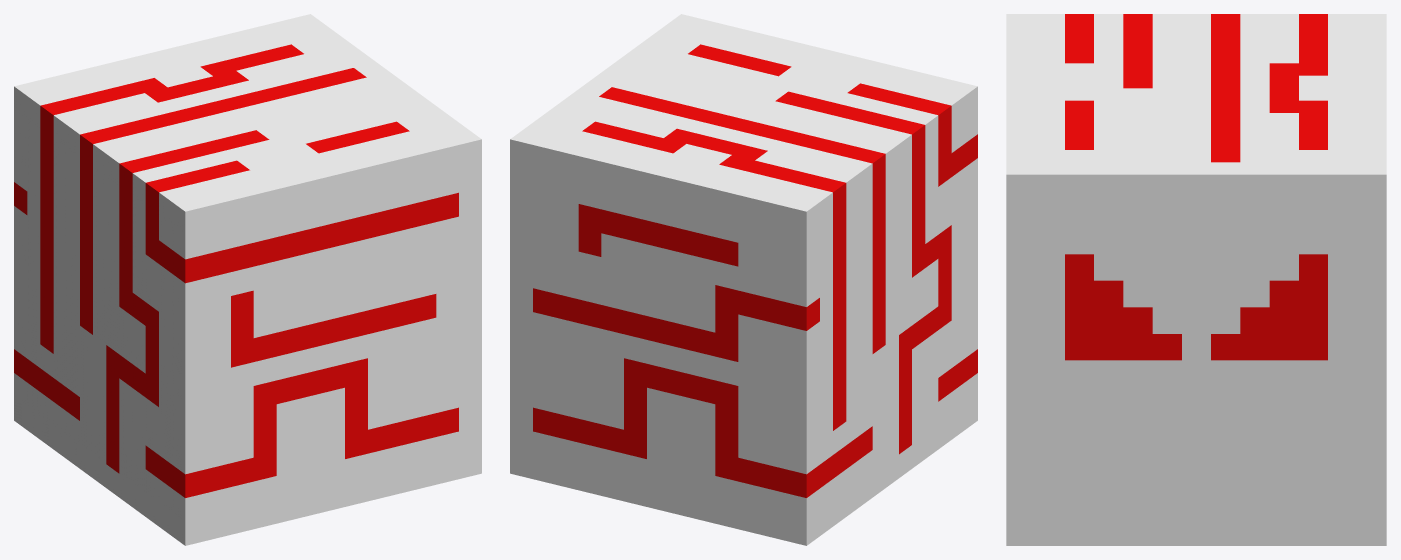
File: rbshockree.obj
3 renders of one model, left to right at view 1: azimuth 30°, elevation 25°; view 2: azimuth 150°, elevation 25°; view 3: azimuth 270°, elevation 25°, orthographic. The views are drawn at different scales.
Parts seen in each view (by area): view 1: cube, yellow_concrete, red_concrete, lime_concrete, light_blue_concrete, magenta_concrete; view 2: cube, yellow_concrete, lime_concrete, red_concrete, light_blue_concrete, magenta_concrete; view 3: cube, yellow_concrete, red_concrete, light_blue_concrete, magenta_concrete, lime_concrete.
Boxes of the visible parts, x1=… form: cube: x1=14, y1=14, x2=481, y2=545; yellow_concrete: x1=14, y1=78, x2=367, y2=497; red_concrete: x1=223, y1=44, x2=458, y2=447; lime_concrete: x1=27, y1=153, x2=171, y2=478; light_blue_concrete: x1=40, y1=249, x2=158, y2=449; magenta_concrete: x1=66, y1=388, x2=119, y2=473; cube: x1=510, y1=14, x2=977, y2=545; yellow_concrete: x1=624, y1=61, x2=977, y2=497; lime_concrete: x1=820, y1=130, x2=964, y2=487; red_concrete: x1=533, y1=44, x2=745, y2=447; light_blue_concrete: x1=833, y1=249, x2=951, y2=478; magenta_concrete: x1=859, y1=421, x2=911, y2=459; cube: x1=1006, y1=14, x2=1386, y2=545; yellow_concrete: x1=1065, y1=14, x2=1327, y2=360; red_concrete: x1=1065, y1=113, x2=1327, y2=360; light_blue_concrete: x1=1240, y1=280, x2=1298, y2=360; magenta_concrete: x1=1299, y1=254, x2=1327, y2=360; lime_concrete: x1=1211, y1=334, x2=1240, y2=360.
Size of the model in its own units: 0.8125 by 0.875 by 0.8125.
